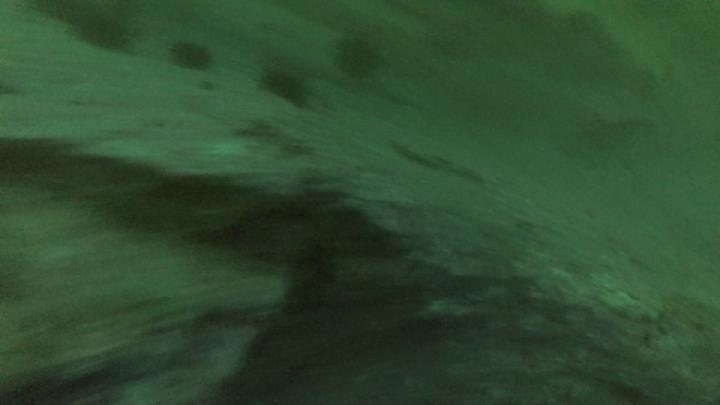echinus: (258, 63, 313, 110), (332, 32, 383, 81), (76, 12, 134, 54), (167, 36, 216, 74)
